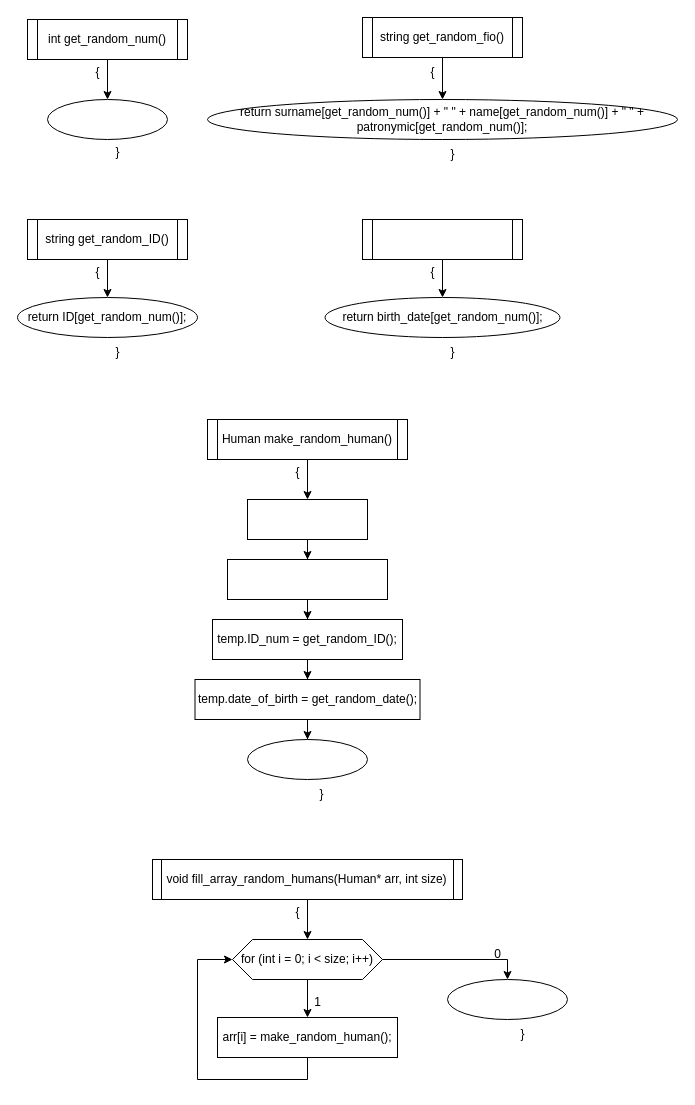
Image size: 695x1105. Some labels were removed from this diagram. The centre of each missing label's shape, as x and y in pixels:
Human temp;: [307,519]
return rand() % 30;: [107,119]
return temp;: [307,759]
return;: [507,999]
string get_random_date(): [442,239]
temp.fio = get_random_fio();: [307,579]
